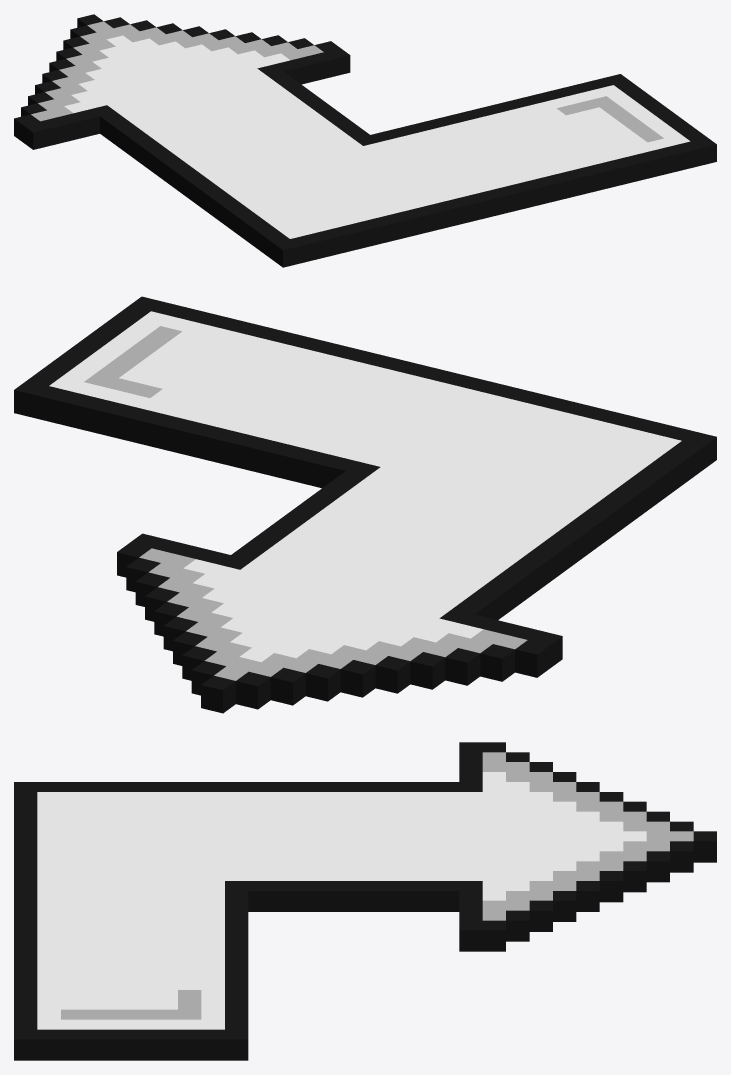
The model's file is arrow-0.obj.
3 renders of one model, top to bottom at view 1: azimuth 30°, elevation 25°; view 2: azimuth 150°, elevation 25°; view 3: azimuth 270°, elevation 25°, orthographic. The views are drawn at different scales.
Bounding box in the file's own units: 3 × 0.1 × 3.
Materials: 1 (1 with a texture image).
